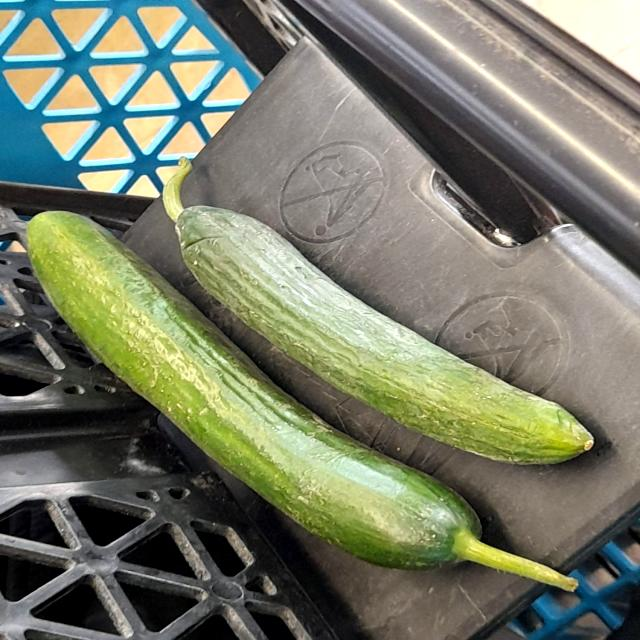cucumber: (17, 196, 504, 598), (158, 170, 596, 460)
